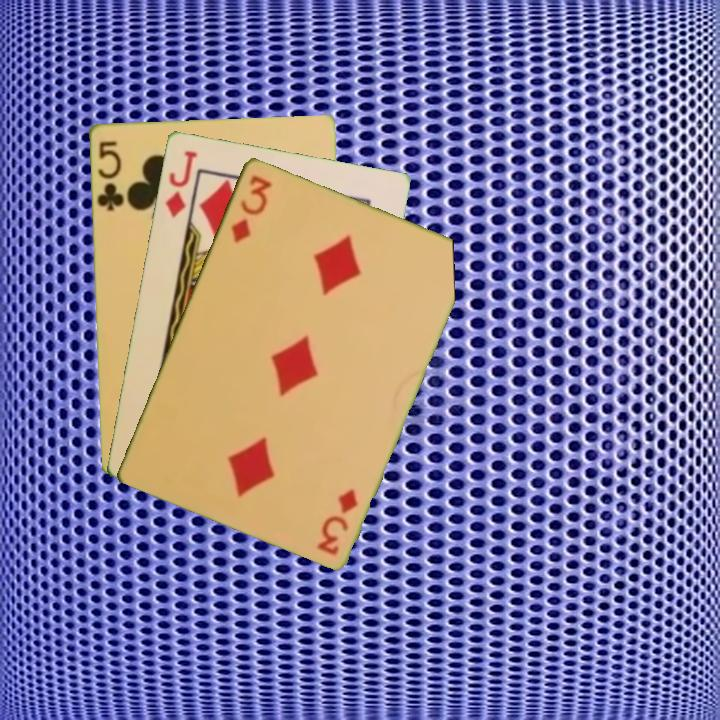3d: (227, 171, 274, 246), (313, 485, 361, 558)
5c: (93, 137, 126, 213)
Jd: (161, 146, 200, 221)
